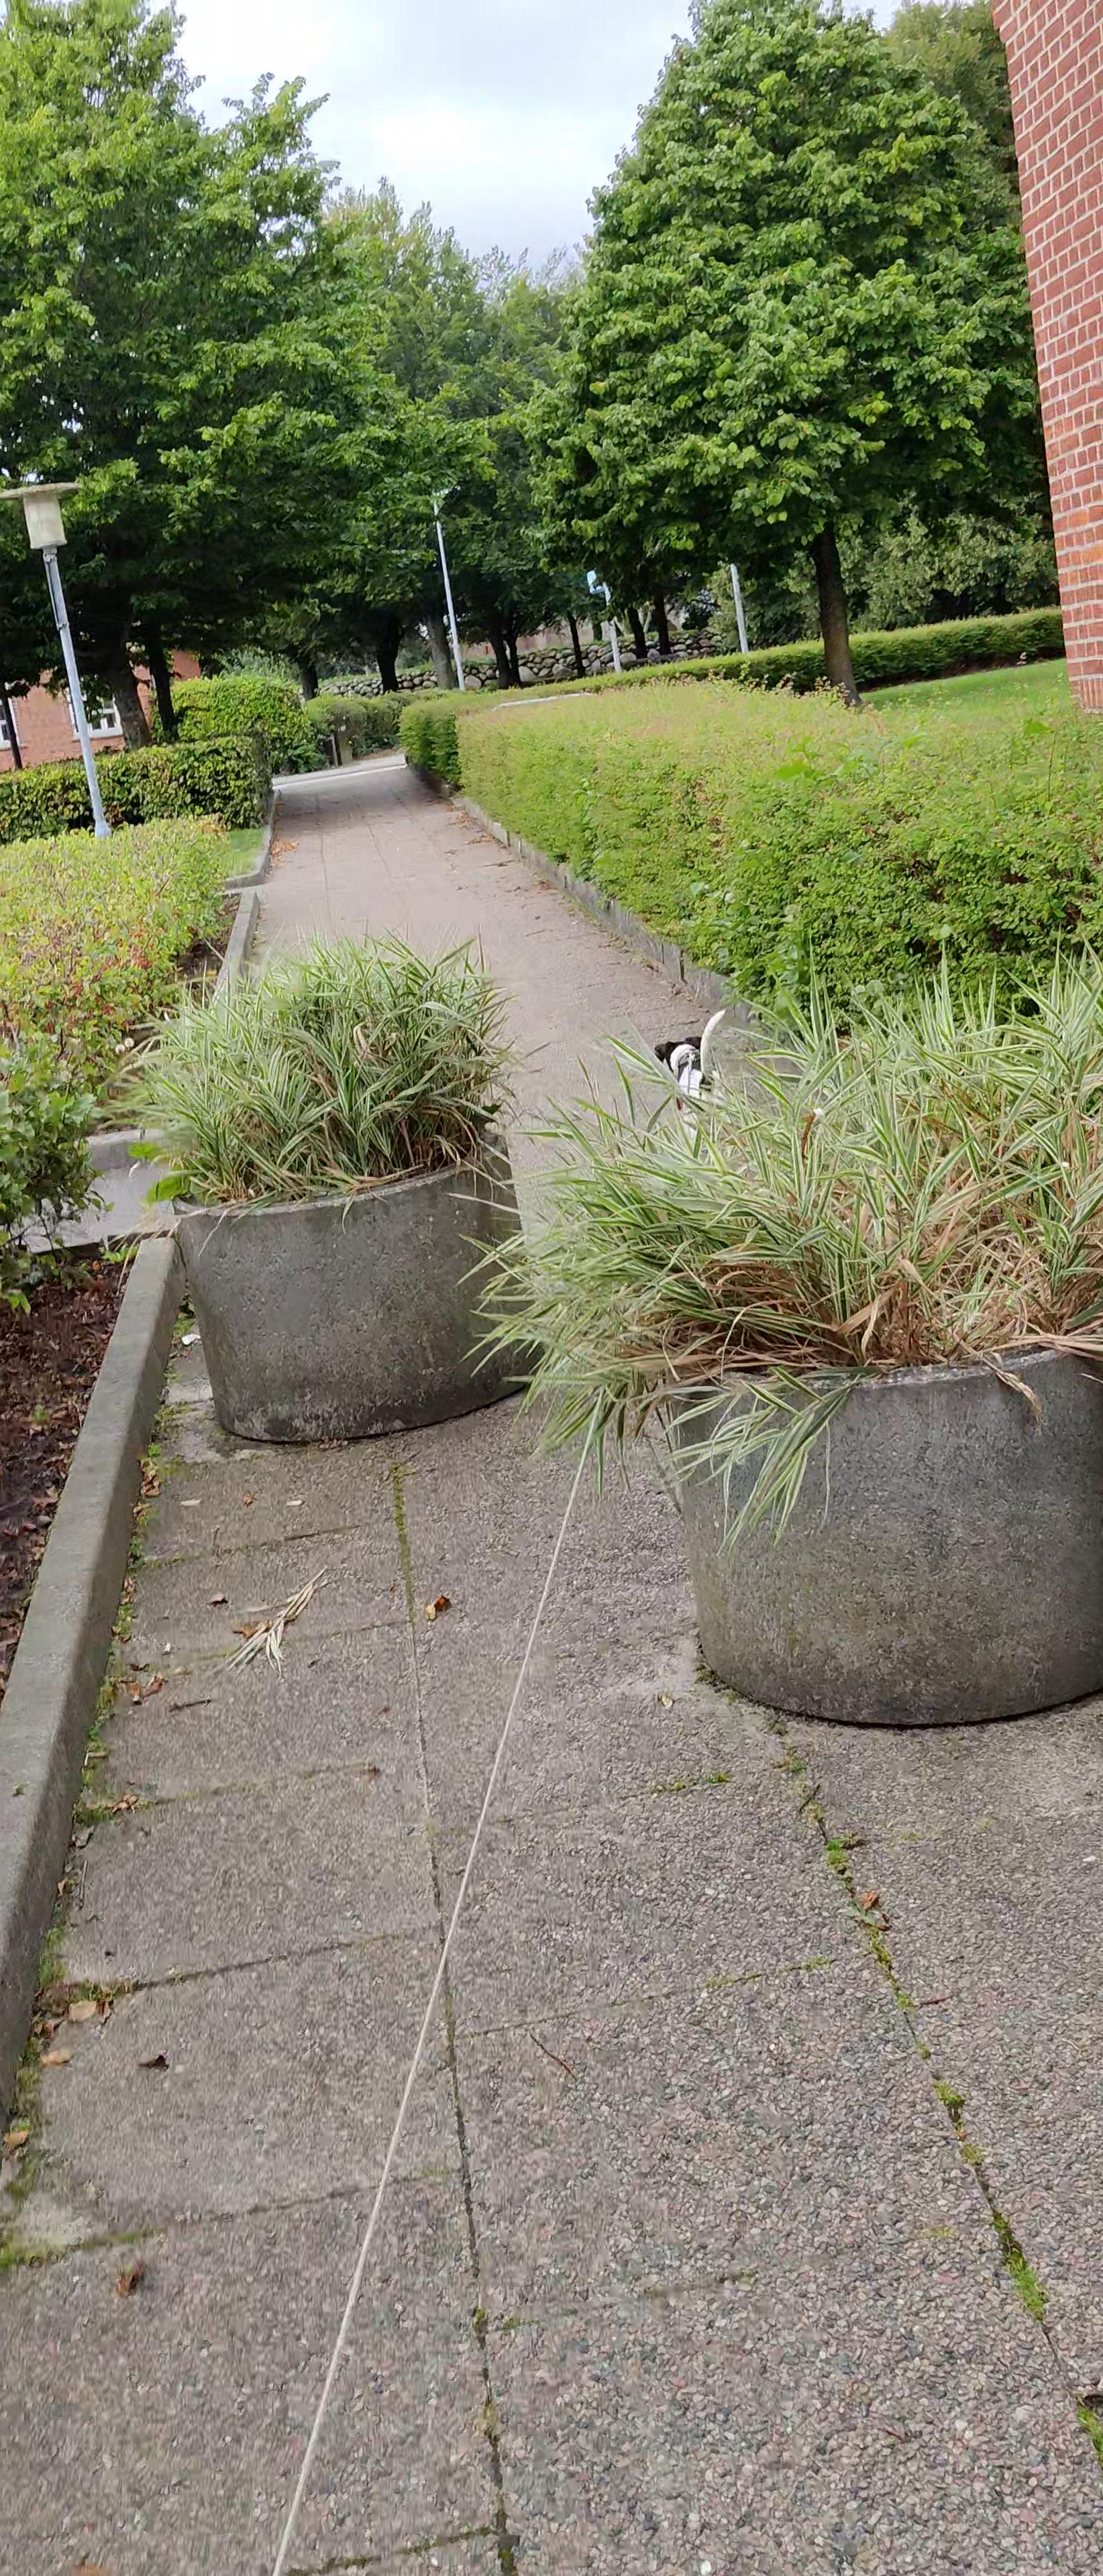Dog: (649, 1005, 730, 1158)
